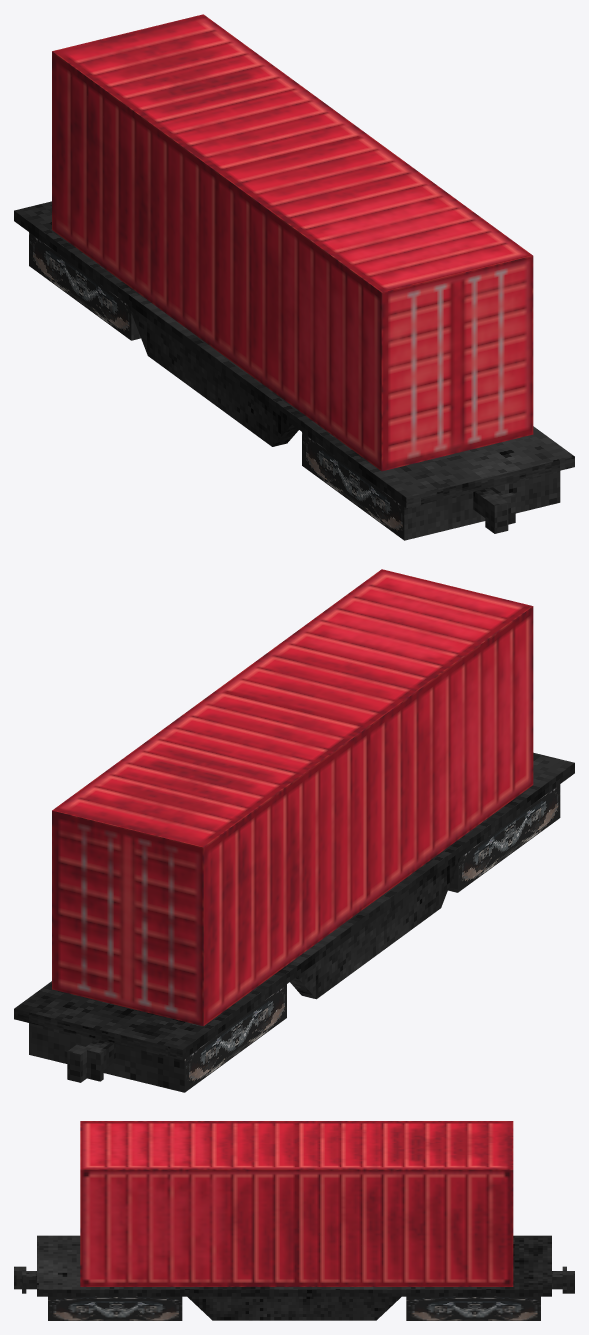
Rendered from pixel_train_car_red_lowpoly.fbx.
3 views of the same model, one above another, from view 1: azimuth 30°, elevation 25°; view 2: azimuth 150°, elevation 25°; view 3: azimuth 270°, elevation 25° (orthographic). The views are drawn at different scales.
Visible parts, largest first — view 1: psx_train_car_body_red, psx_train_car_underbody, psx_train_car_wheels, psx_train_car_attach; view 2: psx_train_car_body_red, psx_train_car_underbody, psx_train_car_wheels, psx_train_car_attach2; view 3: psx_train_car_body_red, psx_train_car_underbody, psx_train_car_wheels, psx_train_car_attach, psx_train_car_attach2.
Boxes of the visible parts, left/top/right/bottom form: psx_train_car_body_red: left=52, top=14, right=533, bottom=471; psx_train_car_underbody: left=14, top=201, right=574, bottom=508; psx_train_car_wheels: left=29, top=232, right=560, bottom=540; psx_train_car_attach: left=473, top=487, right=515, bottom=533; psx_train_car_body_red: left=52, top=569, right=533, bottom=1026; psx_train_car_underbody: left=14, top=752, right=574, bottom=1060; psx_train_car_wheels: left=29, top=784, right=560, bottom=1092; psx_train_car_attach2: left=67, top=1039, right=115, bottom=1082; psx_train_car_body_red: left=80, top=1121, right=513, bottom=1286; psx_train_car_underbody: left=37, top=1235, right=551, bottom=1320; psx_train_car_wheels: left=48, top=1296, right=540, bottom=1320; psx_train_car_attach: left=14, top=1266, right=36, bottom=1293; psx_train_car_attach2: left=552, top=1266, right=574, bottom=1293.
Size of the model in its own units: 340 by 442 by 1492.
